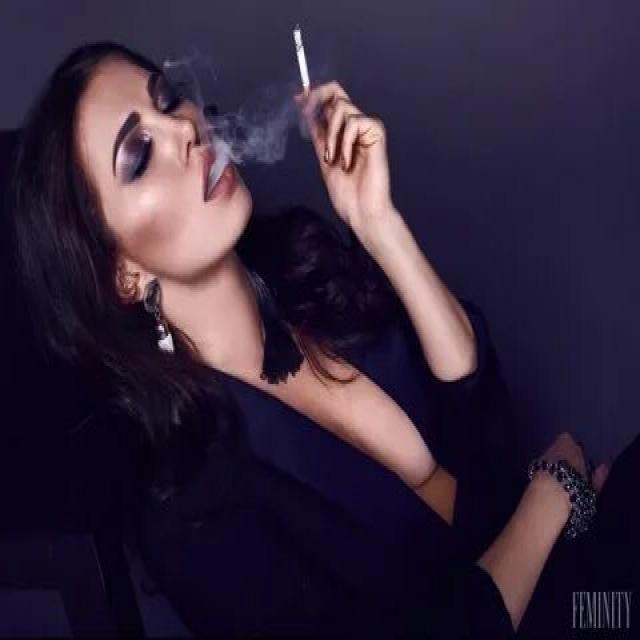smoke: (290, 22, 314, 100)
